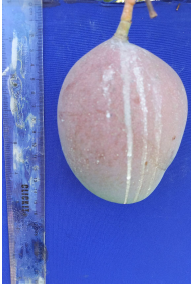Mango-sano: (57, 0, 187, 203)
